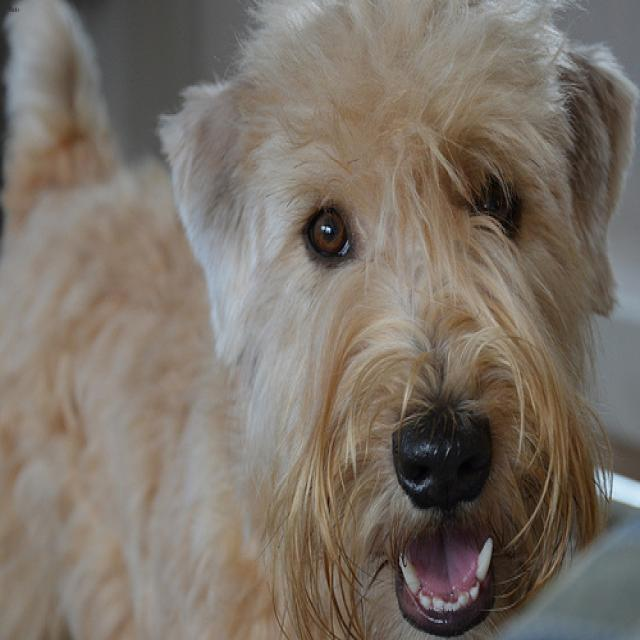dog-wheaten_terrier: (1, 2, 637, 637)
